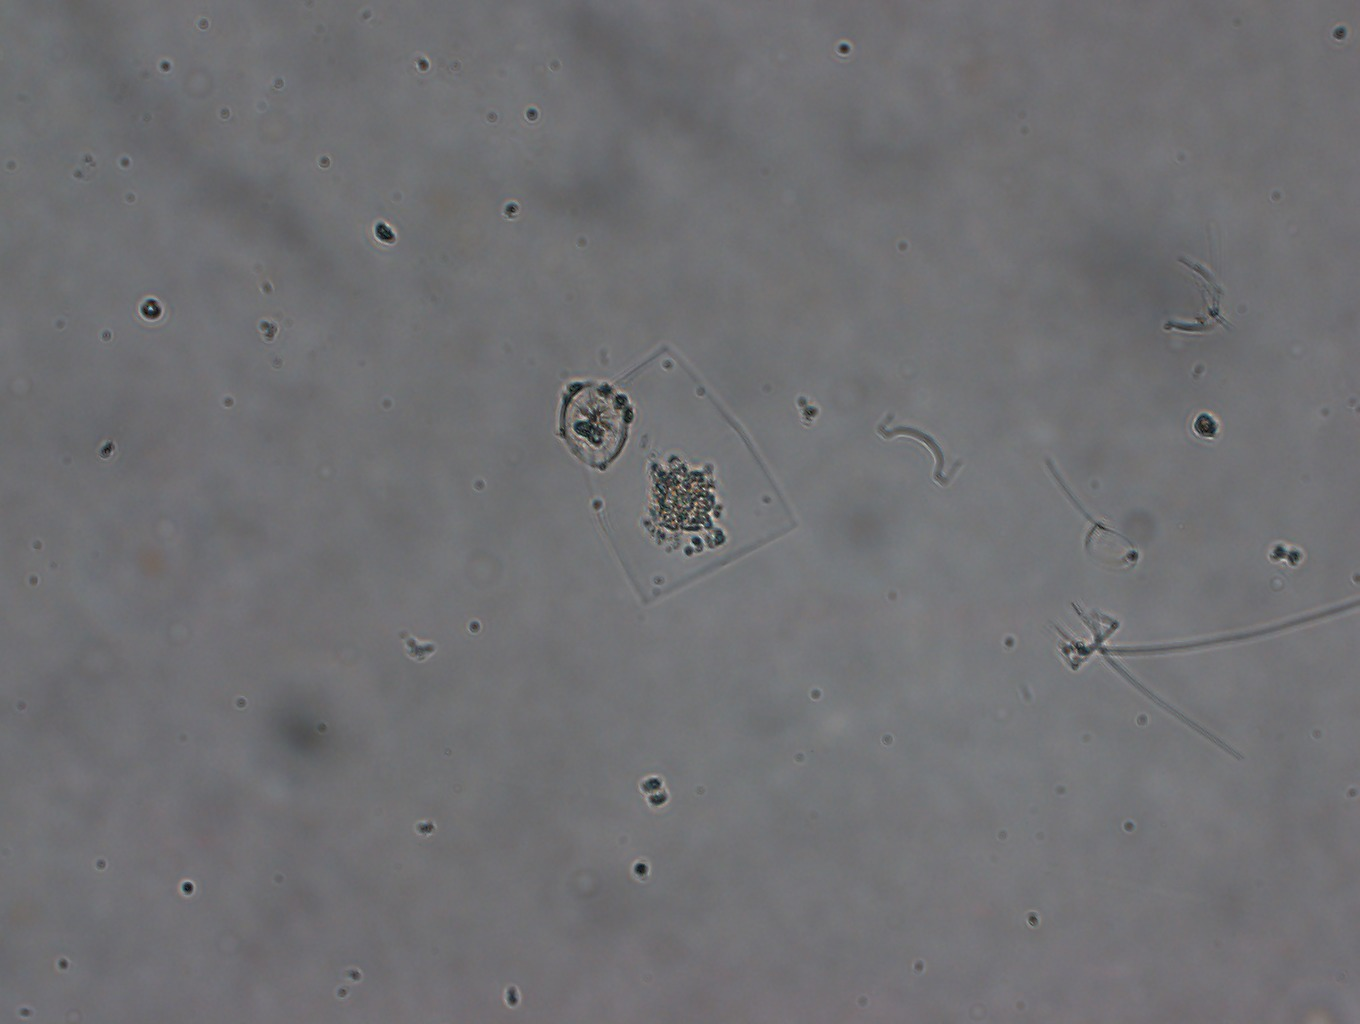helicotheca: (555, 340, 796, 605)
